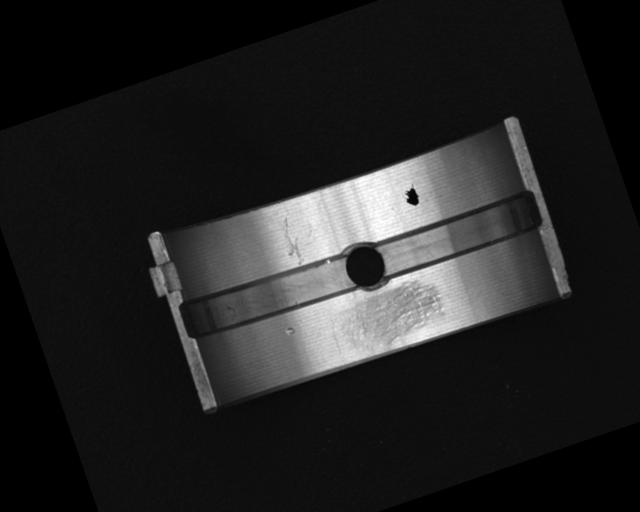blot: (399, 180, 423, 209)
bruise: (282, 323, 297, 337)
gap: (178, 244, 360, 348), (371, 187, 545, 282)
hole: (337, 235, 392, 297)
nick: (275, 213, 307, 268)
scratch: (332, 273, 453, 363)
